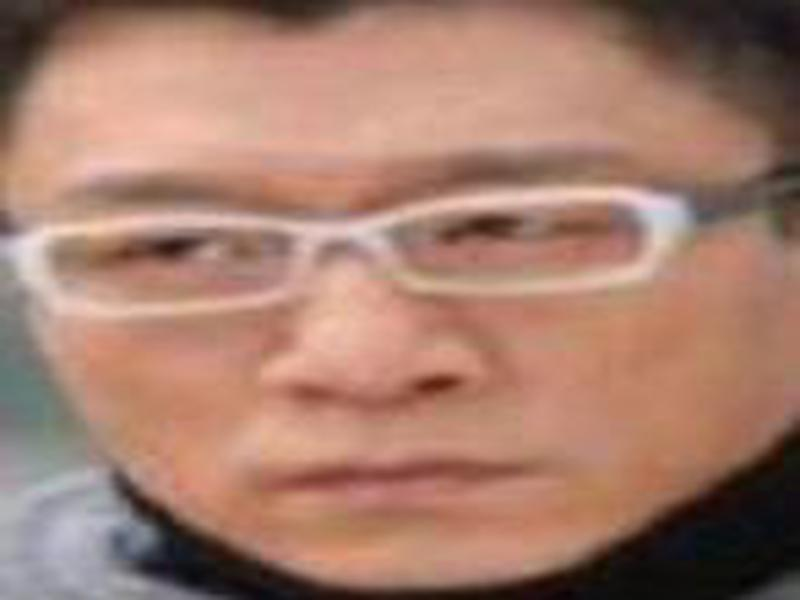without_mask: (4, 86, 793, 592)
